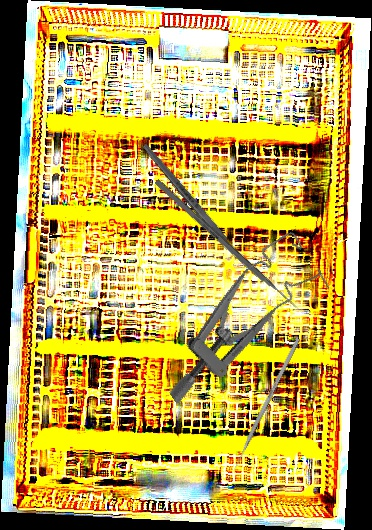Pusher: (153, 178, 306, 317), (228, 337, 301, 478)
Scalpel Handle: (140, 141, 247, 266)
Speculum: (131, 229, 340, 406)
